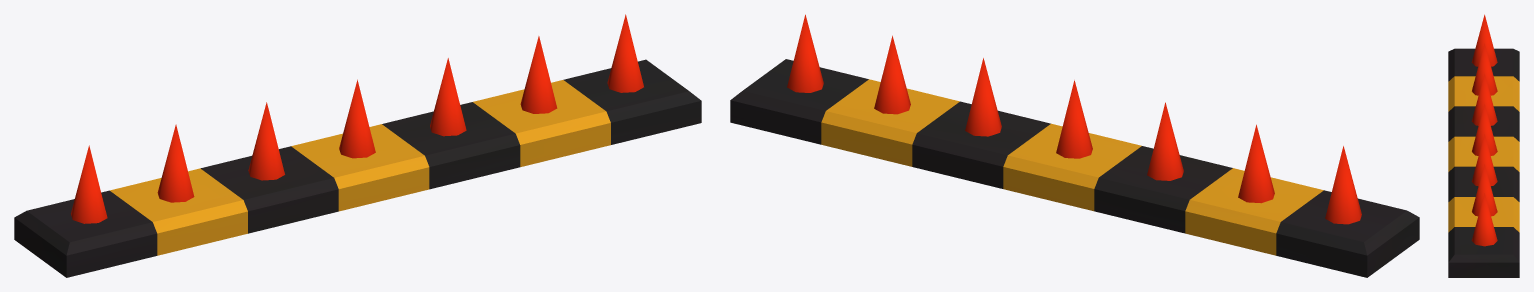
File: CM_Road_Trap_01_model.fbx
3 renders of one model, left to right at view 1: azimuth 30°, elevation 25°; view 2: azimuth 150°, elevation 25°; view 3: azimuth 270°, elevation 25°, orthographic. The views are drawn at different scales.
Parts seen in each view (by area): view 1: CM_Road_Trap_01_model; view 2: CM_Road_Trap_01_model; view 3: CM_Road_Trap_01_model.
Boxes of the visible parts, x1,y1,x2,y2 form: CM_Road_Trap_01_model: (14, 14, 701, 277); CM_Road_Trap_01_model: (730, 14, 1419, 277); CM_Road_Trap_01_model: (1448, 14, 1519, 277).
Bounding box in the file's own units: 19.74 × 3.02 × 2.81.
